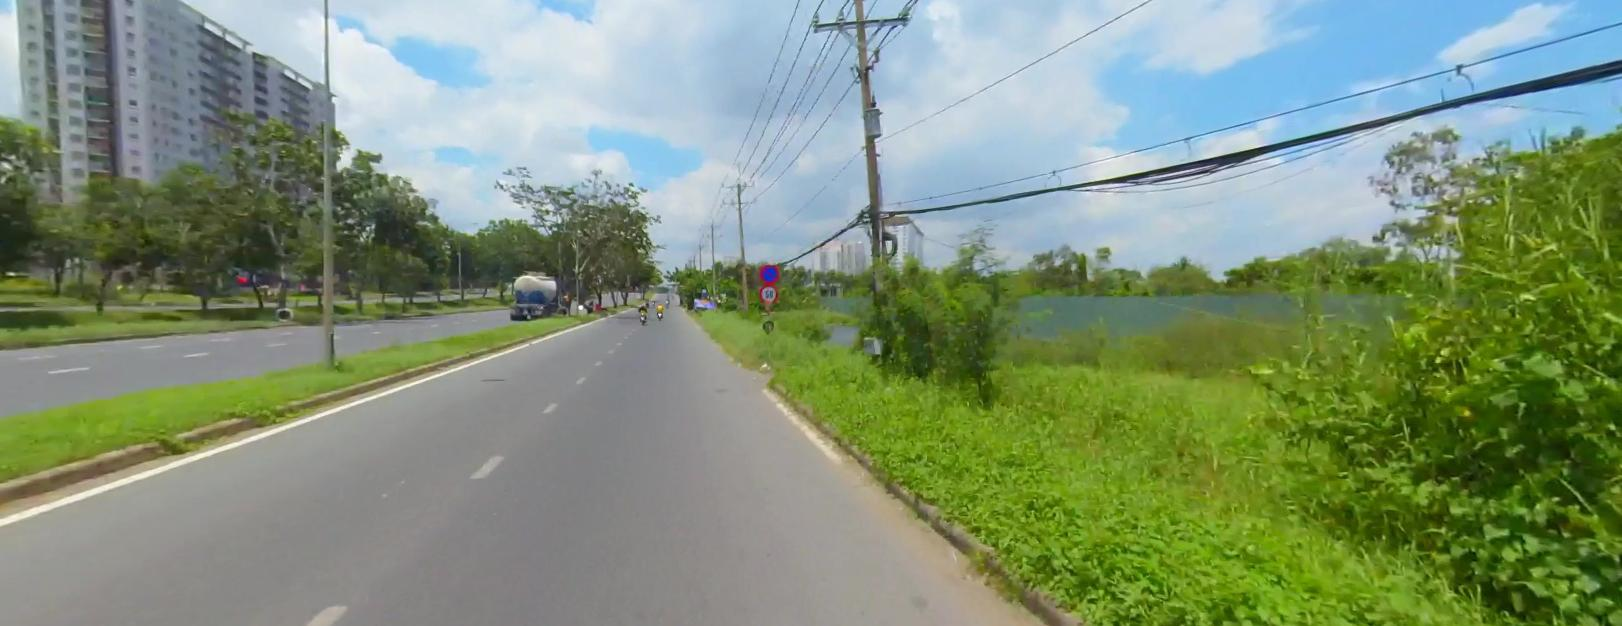Cam dung va do: (759, 263, 778, 282)
Gioi han toc do: (758, 284, 779, 303)
